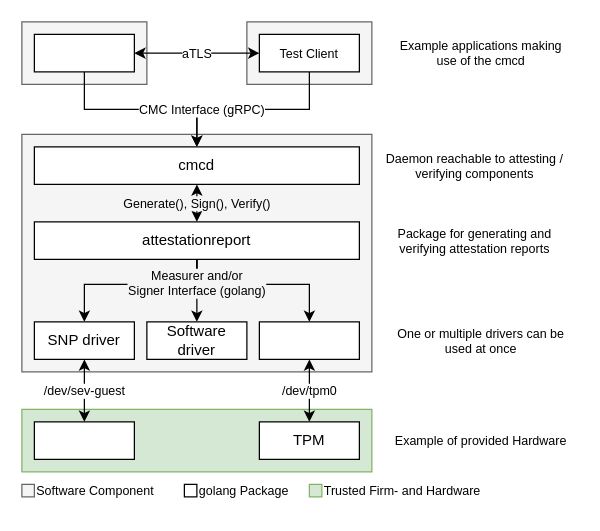
Image size: 600x531. Some labels were removed from this diagram. The shapes that lost their labels are listed below. From the top down, each one's centre as x and y in pixels, then its label:
(x=83, y=52): Test Connector
(x=308, y=340): TPM driver
(x=83, y=440): AMD PSP
